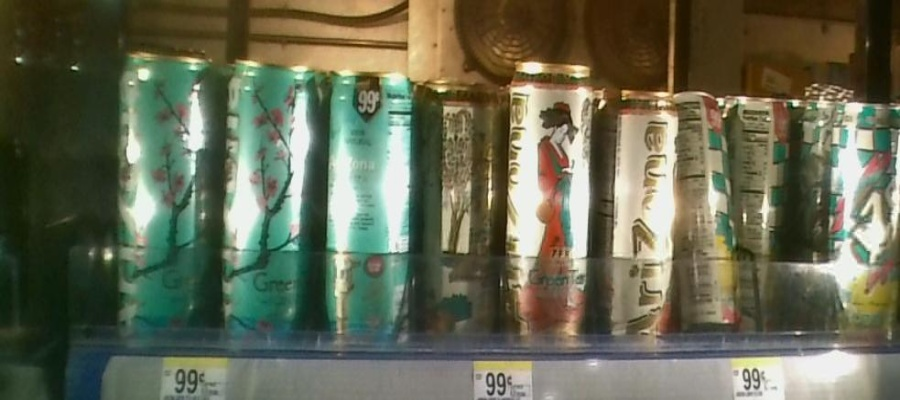bottle: (116, 34, 222, 356), (225, 39, 322, 353), (503, 54, 596, 353), (331, 44, 412, 360), (415, 60, 499, 354), (598, 65, 677, 368), (826, 79, 900, 351), (737, 73, 795, 350), (678, 71, 736, 347)
